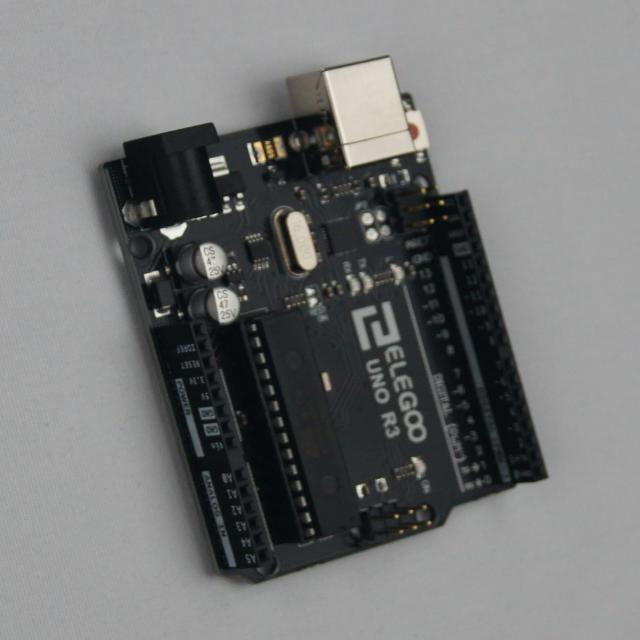Arduino Uno -Black-: (104, 58, 547, 582)
